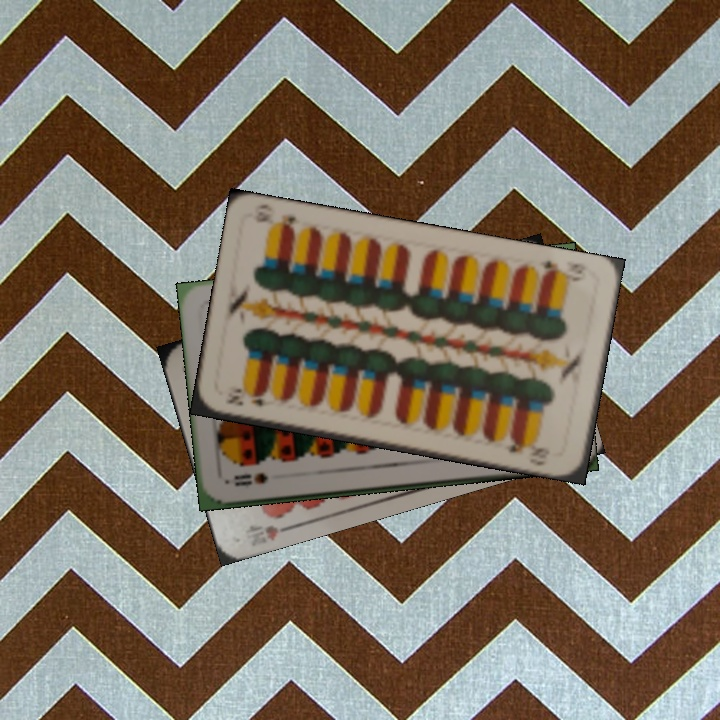E10: (537, 256, 589, 284), (221, 385, 277, 410)
H10: (261, 520, 298, 543)
S8: (230, 468, 271, 489)
